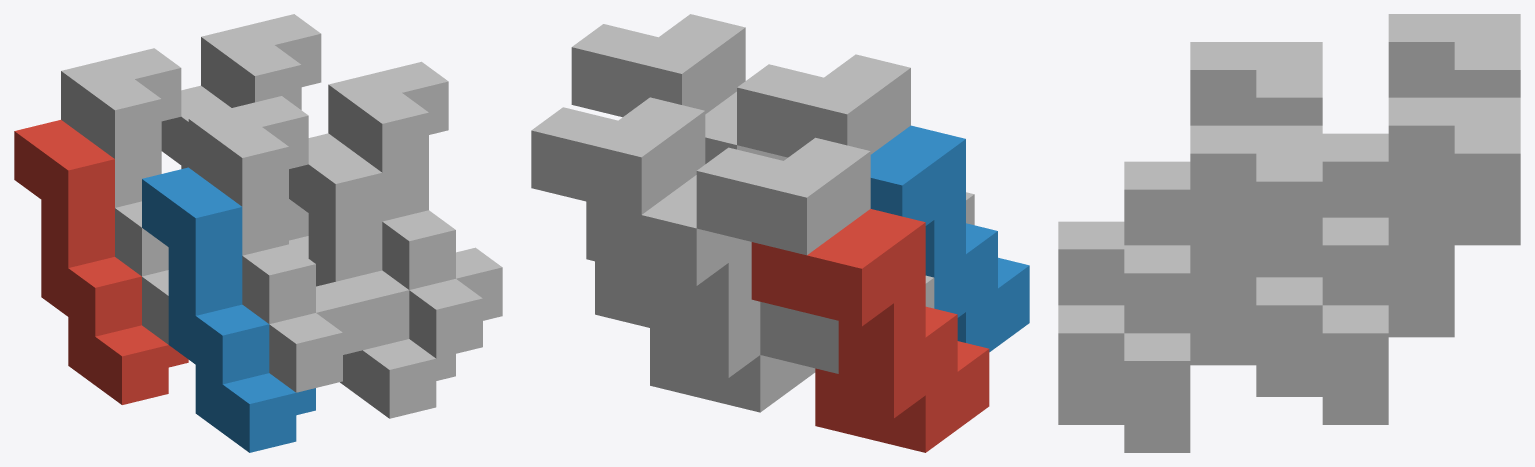
File: tiling.obj
3 views of the same model, side by side, from view 1: azimuth 30°, elevation 25°; view 2: azimuth 150°, elevation 25°; view 3: azimuth 270°, elevation 25° (orthographic). The views are drawn at different scales.
Parts seen in each view (by area): view 1: copy_1_domain_8, copy_1_domain_4, copy_1_domain_2, copy_1_domain_1, copy_1_domain_6, copy_1_domain_3, copy_1_domain_7, copy_1_domain_5; view 2: copy_1_domain_1, copy_1_domain_5, copy_1_domain_3, copy_1_domain_7, copy_1_domain_2, copy_1_domain_4, copy_1_domain_8, copy_1_domain_6; view 3: copy_1_domain_7, copy_1_domain_8, copy_1_domain_4, copy_1_domain_3, copy_1_domain_6, copy_1_domain_5.
Boxes of the visible parts, box(x1,y1,x2,y2) form: copy_1_domain_8: box(328, 61, 502, 358); copy_1_domain_4: box(188, 96, 362, 392); copy_1_domain_2: box(142, 167, 315, 452); copy_1_domain_1: box(14, 120, 188, 404); copy_1_domain_6: box(289, 133, 455, 418); copy_1_domain_3: box(61, 48, 181, 344); copy_1_domain_7: box(201, 14, 321, 258); copy_1_domain_5: box(161, 85, 231, 168); copy_1_domain_1: box(751, 209, 989, 452); copy_1_domain_5: box(586, 175, 815, 412); copy_1_domain_3: box(696, 137, 934, 373); copy_1_domain_7: box(531, 97, 705, 333); copy_1_domain_2: box(870, 125, 1029, 352); copy_1_domain_4: box(737, 54, 974, 225); copy_1_domain_8: box(571, 14, 745, 117); copy_1_domain_6: box(705, 91, 787, 163); copy_1_domain_7: box(1256, 97, 1520, 392); copy_1_domain_8: box(1058, 125, 1322, 420); copy_1_domain_4: box(1058, 42, 1322, 305); copy_1_domain_3: box(1256, 14, 1520, 277); copy_1_domain_6: box(1058, 241, 1322, 452); copy_1_domain_5: box(1256, 213, 1520, 424).
Size of the model in its own units: 7 by 5 by 7.
